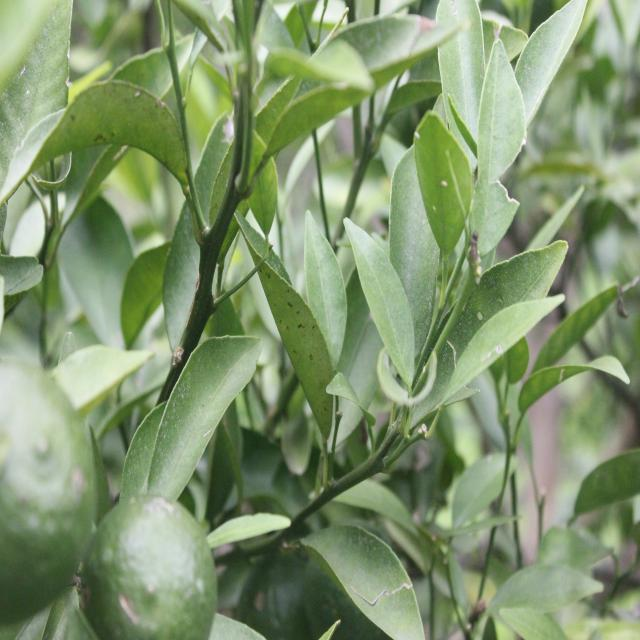melanose: (31, 71, 190, 190), (253, 255, 331, 410)
